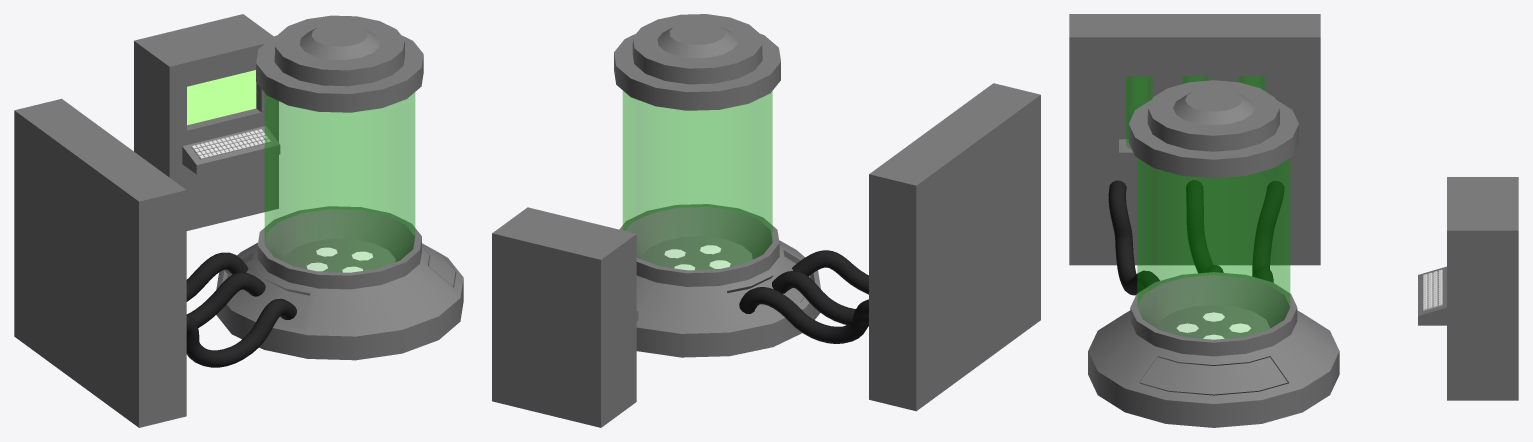
File: lab.glb
3 renders of one model, left to right at view 1: azimuth 30°, elevation 25°; view 2: azimuth 150°, elevation 25°; view 3: azimuth 270°, elevation 25°, orthographic.
Visible parts, largest first — view 1: Circle, Cube.002, Cube, BezierCurve, Cube.001, Circle.003; view 2: Circle, Cube.002, Cube, BezierCurve, Circle.003; view 3: Circle, Cube.002, Cube, BezierCurve, Circle.002, Cube.001, Circle.003.
Part boxes in pixels (x1,y1,x2,y2): Circle: (216, 15, 463, 360); Cube.002: (14, 98, 186, 427); Cube: (134, 14, 280, 230); BezierCurve: (186, 252, 296, 367); Cube.001: (191, 129, 270, 159); Circle.003: (306, 247, 372, 272); Circle: (614, 14, 820, 357); Cube.002: (869, 83, 1040, 411); Cube: (492, 207, 638, 427); BezierCurve: (739, 250, 868, 343); Circle.003: (664, 245, 730, 270); Circle: (1088, 80, 1339, 427); Cube.002: (1069, 14, 1320, 265); Cube: (1418, 177, 1518, 400); BezierCurve: (1108, 180, 1284, 295); Circle.002: (1126, 76, 1264, 149); Cube.001: (1423, 269, 1442, 310); Circle.003: (1176, 312, 1250, 339).
Bounding box in the file's own units: 4.31 × 2.97 × 4.38.
